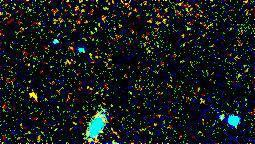star: (20, 79, 50, 109)
